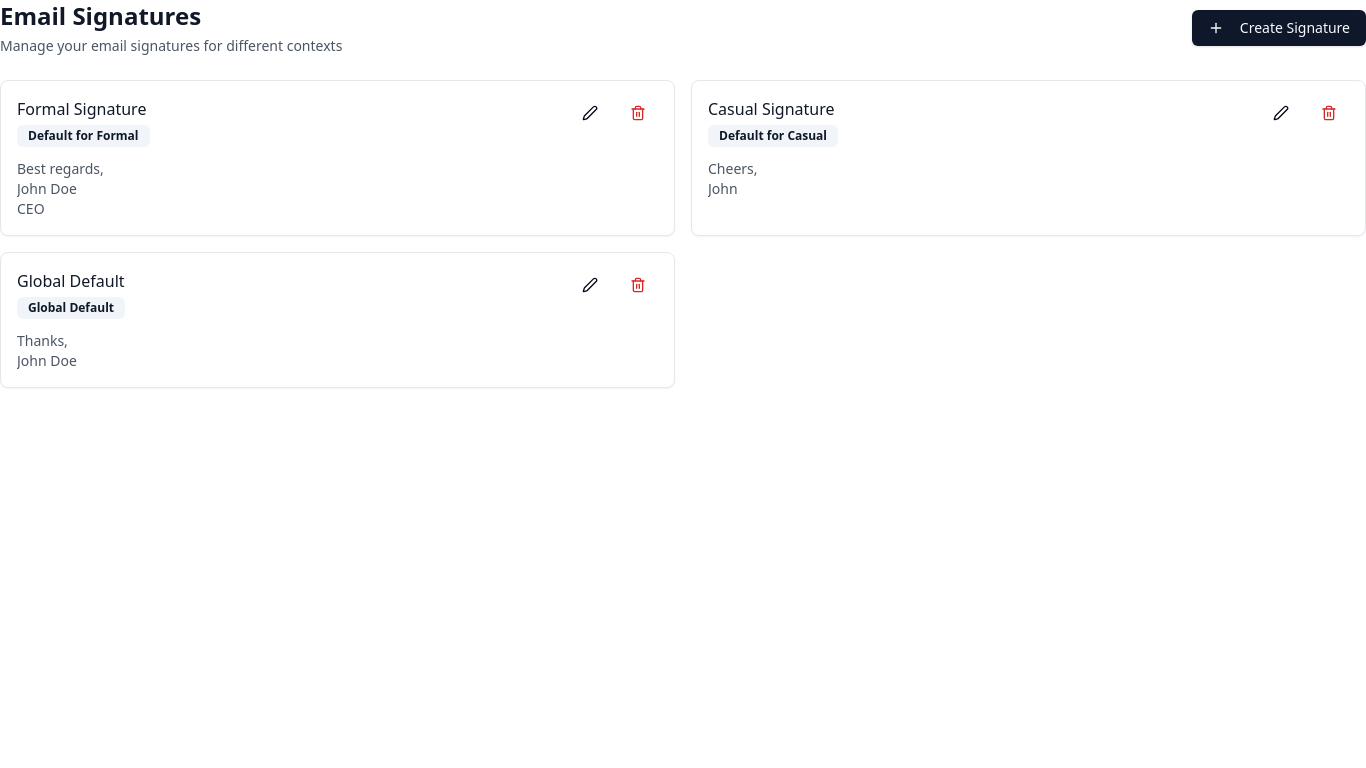
SignatureManager › error handling › displays error message when delete fails
Click the button named "delete": (638, 113) left=618, top=97, right=658, bottom=129
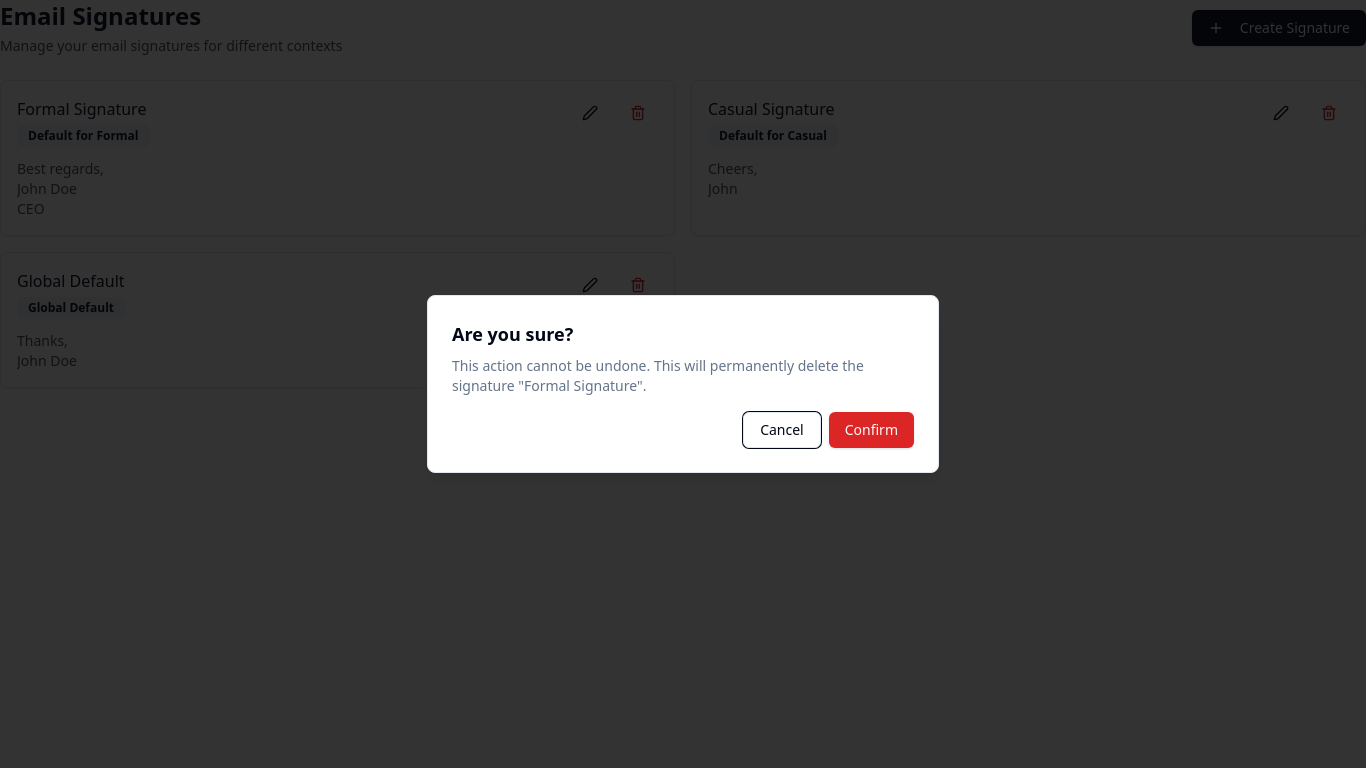
// Confirm deletion
Click the button "Confirm": (871, 430) left=829, top=412, right=914, bottom=448
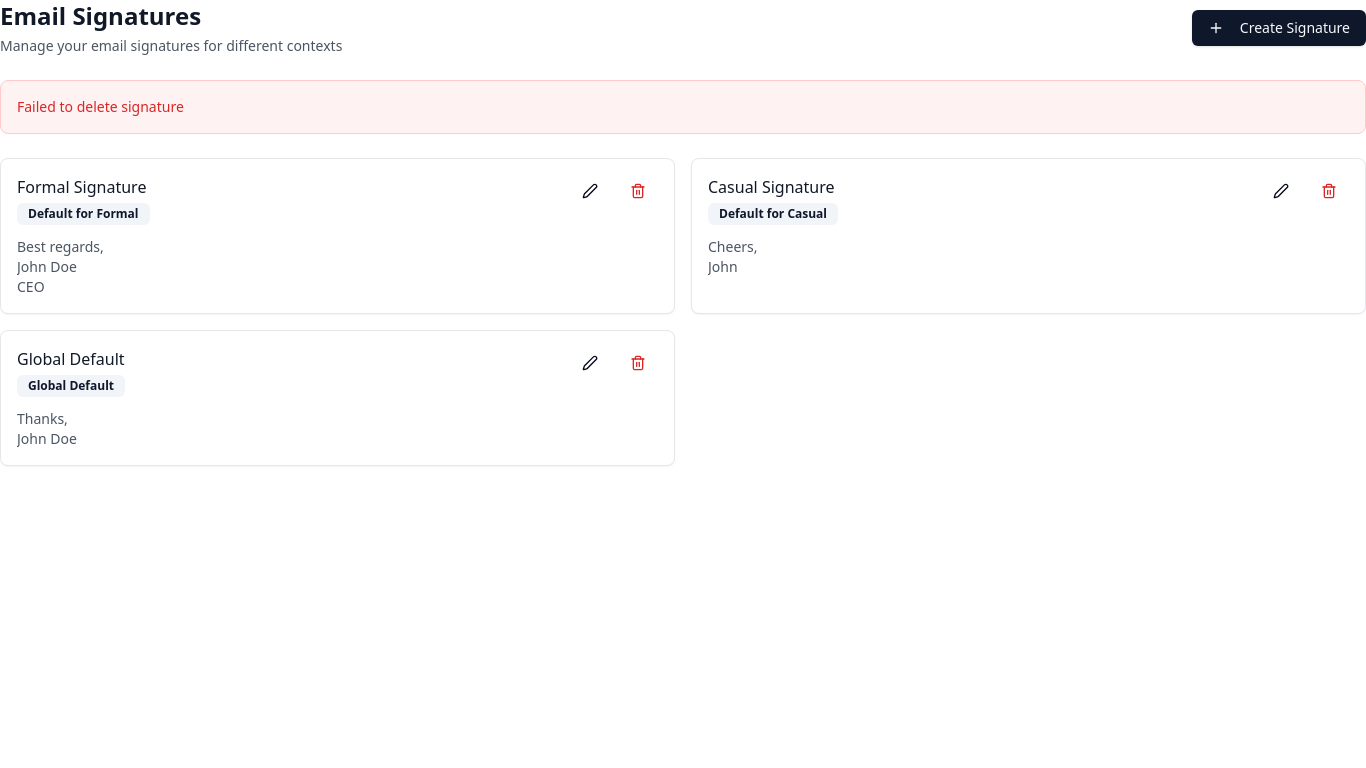
Check: the text "Failed to delete signature" is shown, box left=17, top=97, right=184, bottom=116
